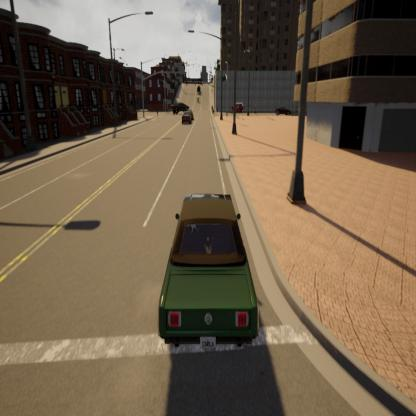Cars: (154, 190, 262, 351), (170, 101, 191, 113), (230, 99, 245, 115), (181, 109, 194, 126), (276, 106, 291, 116)
Pedestrian: (254, 102, 258, 115)
